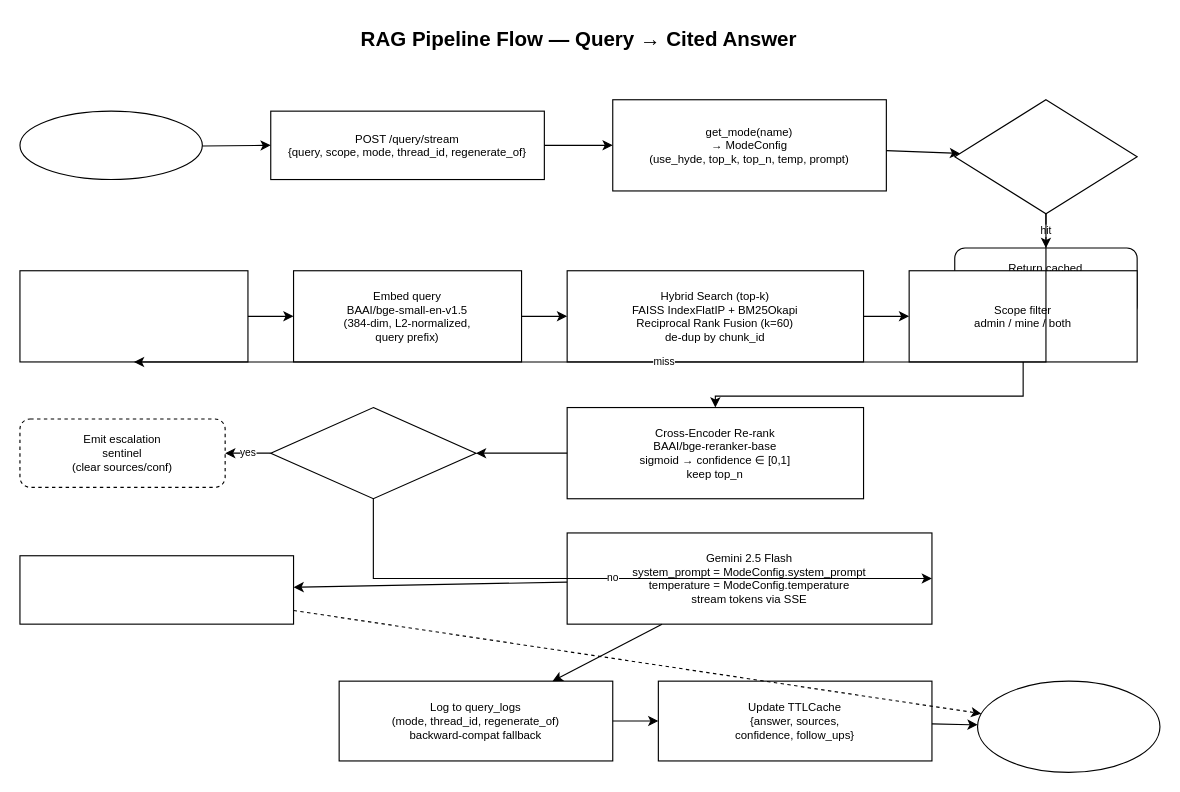
Some shapes in this 1180 by 792 pixel diagram are drawn without their labels. Each missing label, with the centre of its shape:
"Cache lookup sha256(mode:scope:user:query) [skipped on regenerate_of]" belongs at (1045,156).
"Follow-up generator Gemini → 3 short questions (best-effort, swallow errors)" belongs at (156,589).
"Gate check top_score < 0.25?" belongs at (373,452).
"HyDE Expansion (if cfg.use_hyde) Gemini → 3-5 sentence hypothetical passage" belongs at (133,316).
"SSE 'done' event {query_log_id, top_confidence, mode, follow_ups}" belongs at (1068,726).
"User Query (Dashboard.jsx)" belongs at (110,145).
